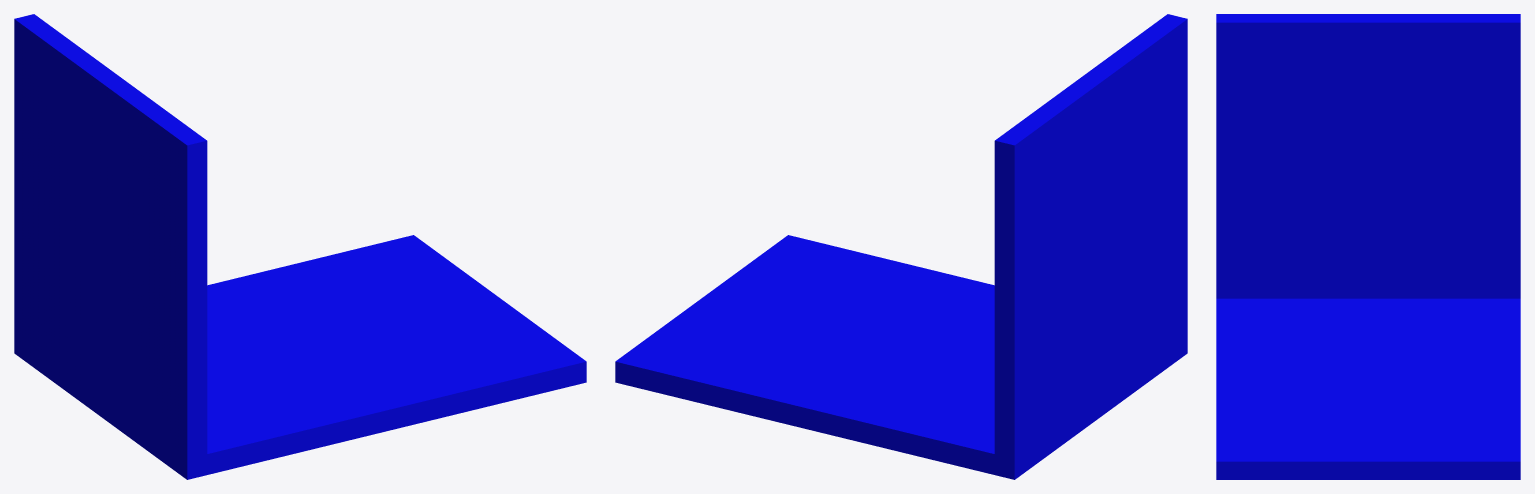
The model's file is bookend2_blender.obj.
The picture shows the model from 3 angles, left to right: view 1: azimuth 30°, elevation 25°; view 2: azimuth 150°, elevation 25°; view 3: azimuth 270°, elevation 25°; orthographic projection. The views are drawn at different scales.
Bounding box in the file's own units: 0.2 × 0.16 × 0.15.
